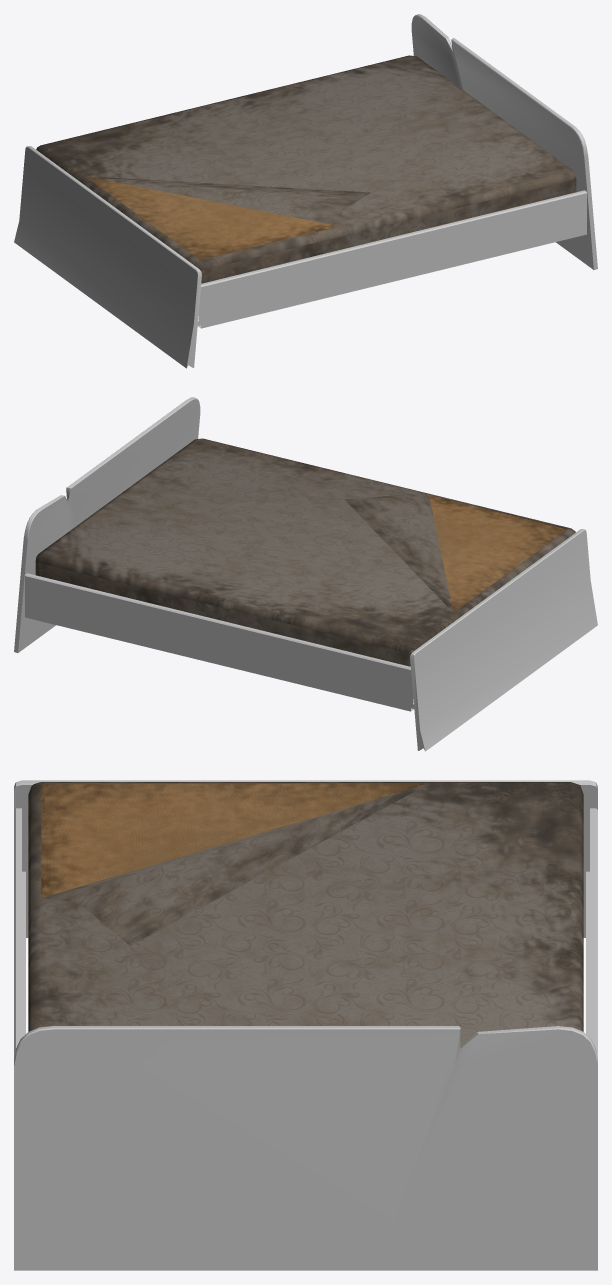
Rendered from DoubleBed_broken.FBX.
3 renders of one model, top to bottom at view 1: azimuth 30°, elevation 25°; view 2: azimuth 150°, elevation 25°; view 3: azimuth 270°, elevation 25°, orthographic. The views are drawn at different scales.
Visible parts, largest first — view 1: DoubleMattress_broken, DoubleBed_broken; view 2: DoubleMattress_broken, DoubleBed_broken; view 3: DoubleBed_broken, DoubleMattress_broken.
Part boxes in pixels (left/top/right/bottom): DoubleMattress_broken: left=36, top=55, right=576, bottom=283; DoubleBed_broken: left=14, top=14, right=597, bottom=368; DoubleMattress_broken: left=35, top=438, right=575, bottom=666; DoubleBed_broken: left=14, top=397, right=597, bottom=751; DoubleBed_broken: left=14, top=780, right=597, bottom=1270; DoubleMattress_broken: left=28, top=782, right=583, bottom=1048.
Size of the model in its own units: 203 by 147 by 64.98.
